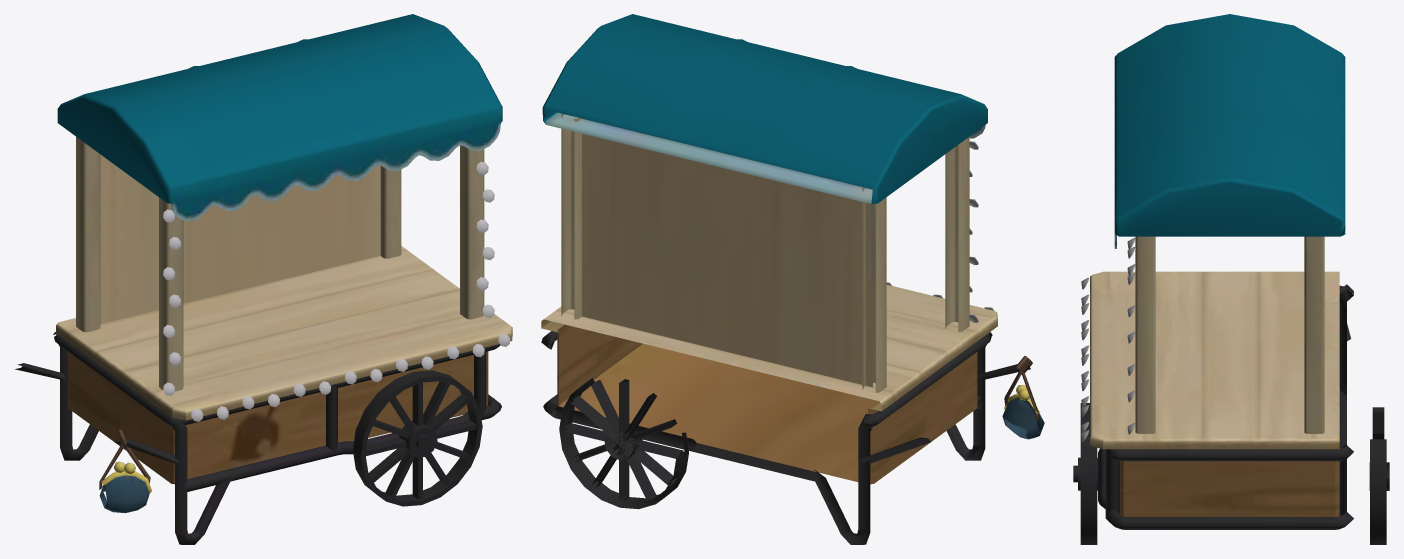
File: market-cart.glb
3 renders of one model, left to right at view 1: azimuth 30°, elevation 25°; view 2: azimuth 150°, elevation 25°; view 3: azimuth 270°, elevation 25°, orthographic.
Parts seen in each view (by area): view 1: EvtobjCountdownStall_node1, EvtobjCountdownStall_node4; view 2: EvtobjCountdownStall_node1; view 3: EvtobjCountdownStall_node1, EvtobjCountdownStall_node4.
Part boxes in pixels (left/top/right/bottom): EvtobjCountdownStall_node1: left=15, top=14, right=512, bottom=544; EvtobjCountdownStall_node4: left=163, top=141, right=510, bottom=421; EvtobjCountdownStall_node1: left=541, top=14, right=1044, bottom=544; EvtobjCountdownStall_node1: left=1073, top=14, right=1389, bottom=544; EvtobjCountdownStall_node4: left=1081, top=238, right=1135, bottom=441.
Bounding box in the file's own units: 2.02 × 1.96 × 1.37.
Materials: 2 (2 with a texture image).
